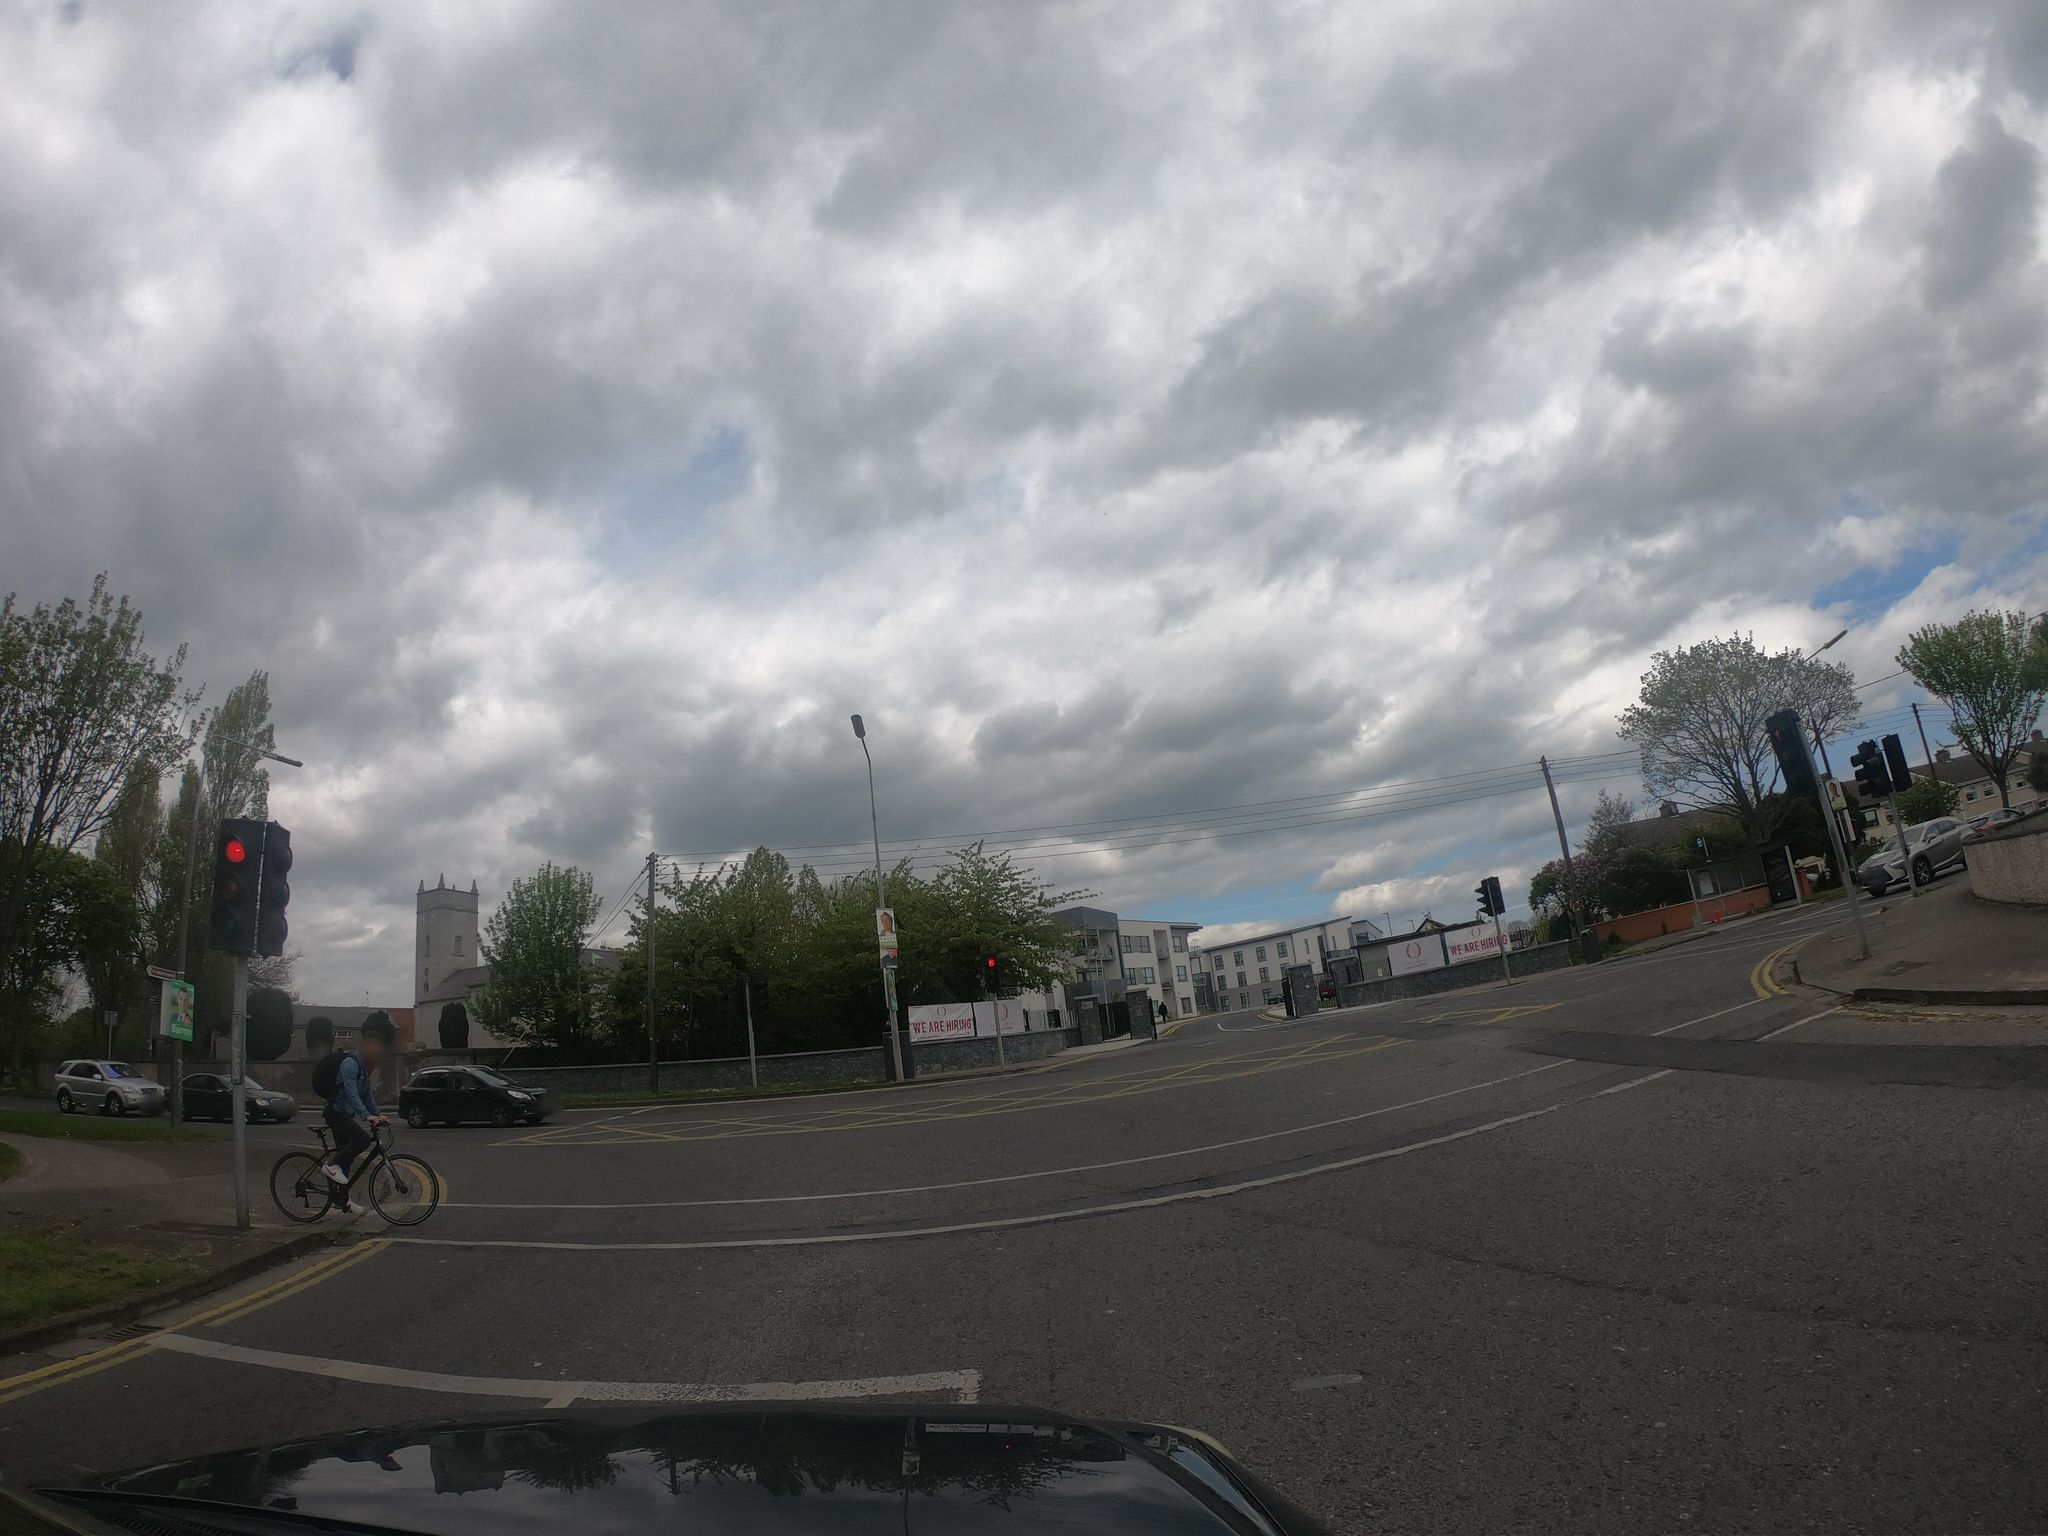vinyl banner: (906, 979, 993, 1050), (1443, 907, 1529, 966)
